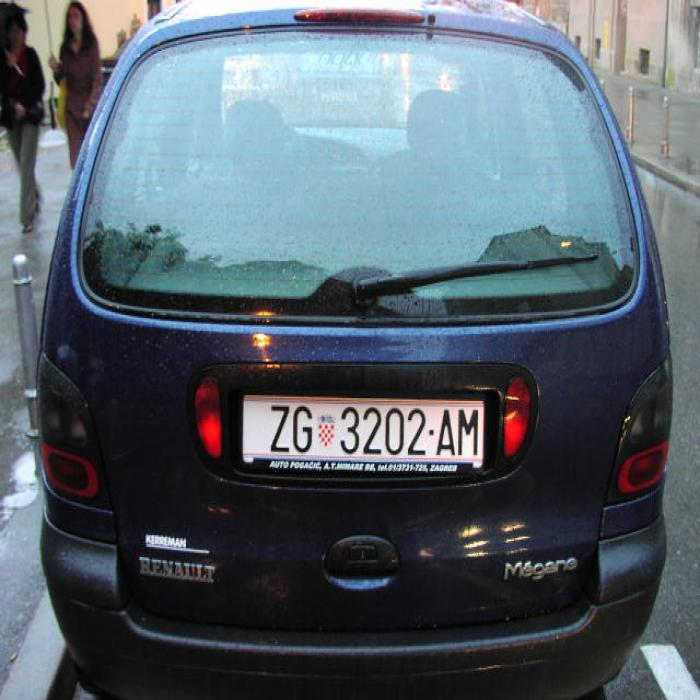number_plate: (242, 397, 481, 464)
